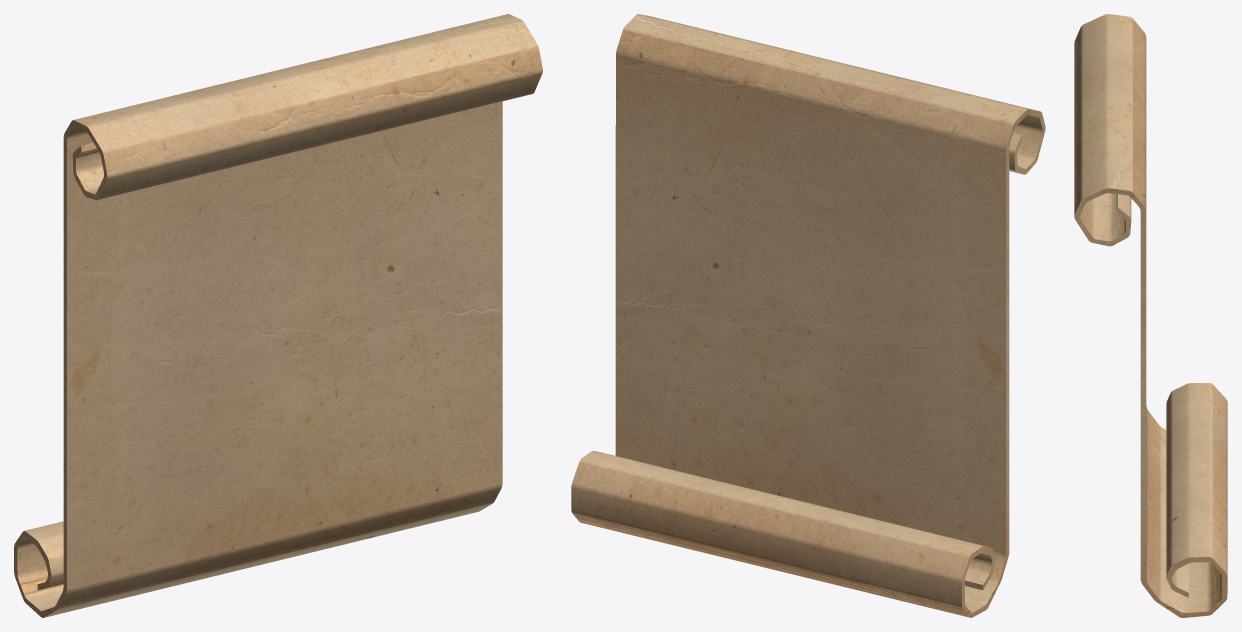
Rendered from Scroll.fbx.
The picture shows the model from 3 angles, left to right: view 1: azimuth 30°, elevation 25°; view 2: azimuth 150°, elevation 25°; view 3: azimuth 270°, elevation 25°; orthographic projection. The views are drawn at different scales.
Parts seen in each view (by area): view 1: Cube; view 2: Cube; view 3: Cube.
Part boxes in pixels (bbox=[...]): Cube: bbox=[14, 14, 542, 617]; Cube: bbox=[571, 14, 1045, 617]; Cube: bbox=[1074, 14, 1227, 617].
Bounding box in the file's own units: 200 × 230 × 74.36.
